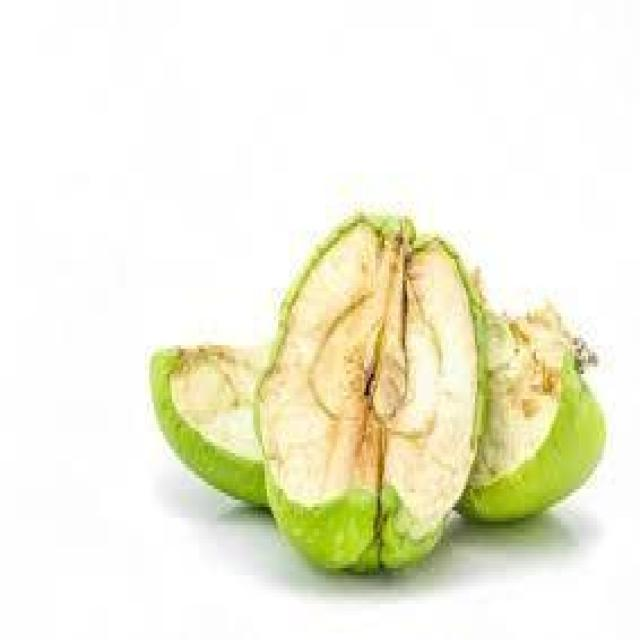maca: (149, 205, 606, 575)
